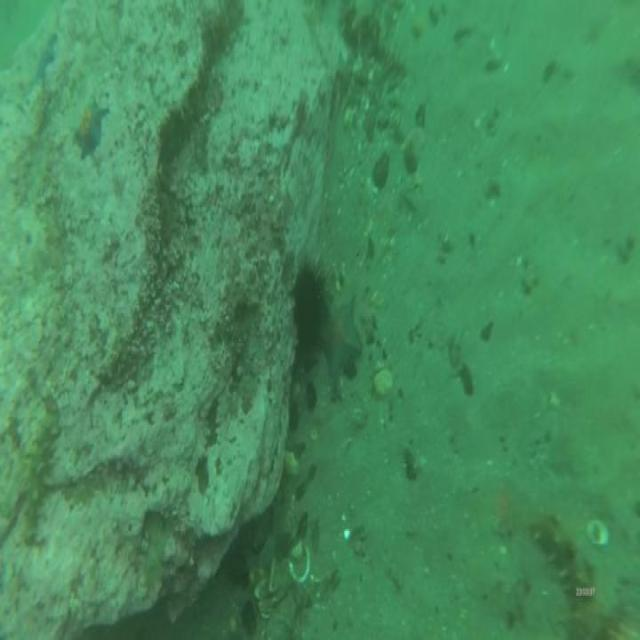echinus: (296, 264, 323, 344)
holothurian: (531, 509, 593, 602), (22, 408, 56, 559)
starfish: (325, 299, 362, 373), (75, 104, 103, 158)
